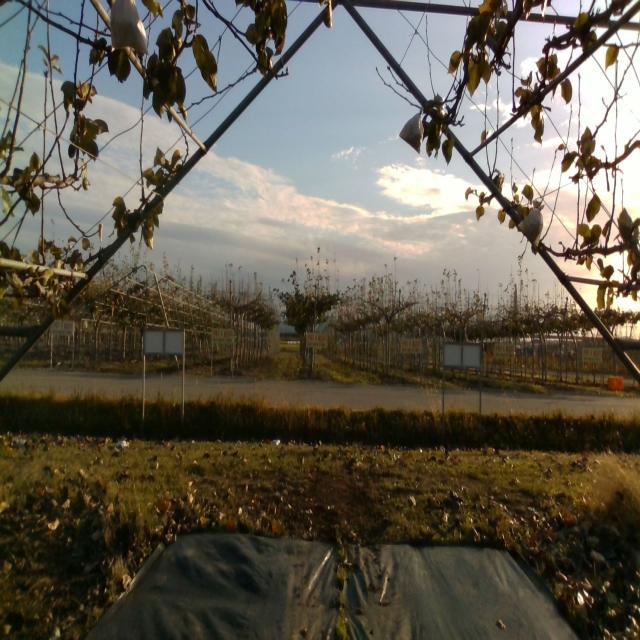pearbags: (104, 0, 153, 58), (397, 102, 427, 155), (518, 200, 546, 248)
